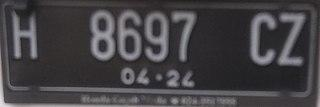6: (116, 6, 144, 64)
7: (171, 9, 199, 64)
8: (85, 6, 117, 64)
9: (144, 6, 172, 64)
C: (245, 10, 278, 68)
H: (8, 5, 42, 64)
Z: (278, 9, 306, 68)
